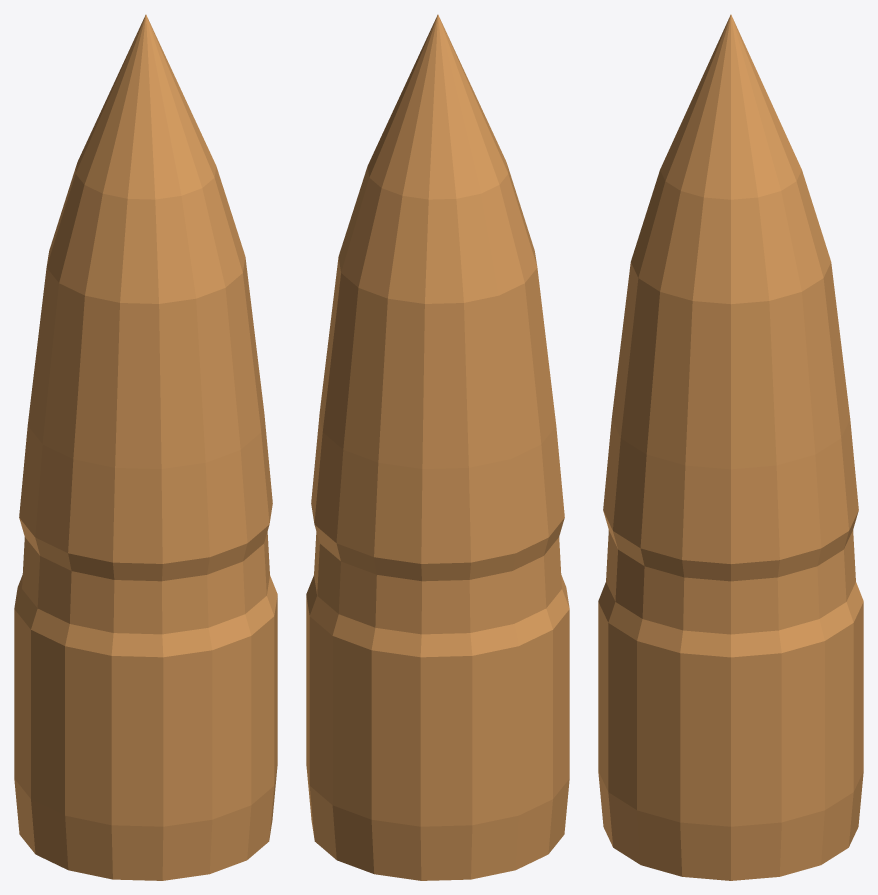
The model's file is 5.56x45mm NATO.fbx.
3 renders of one model, left to right at view 1: azimuth 30°, elevation 25°; view 2: azimuth 150°, elevation 25°; view 3: azimuth 270°, elevation 25°, orthographic.
Parts seen in each view (by area): view 1: Cylinder.015; view 2: Cylinder.015; view 3: Cylinder.015.
Boxes of the visible parts, x1,y1,x2,y2 form: Cylinder.015: (14, 14, 277, 880); Cylinder.015: (306, 14, 569, 880); Cylinder.015: (598, 14, 863, 880).
Size of the model in its own units: 0.6748 by 2.28 by 0.6748.
